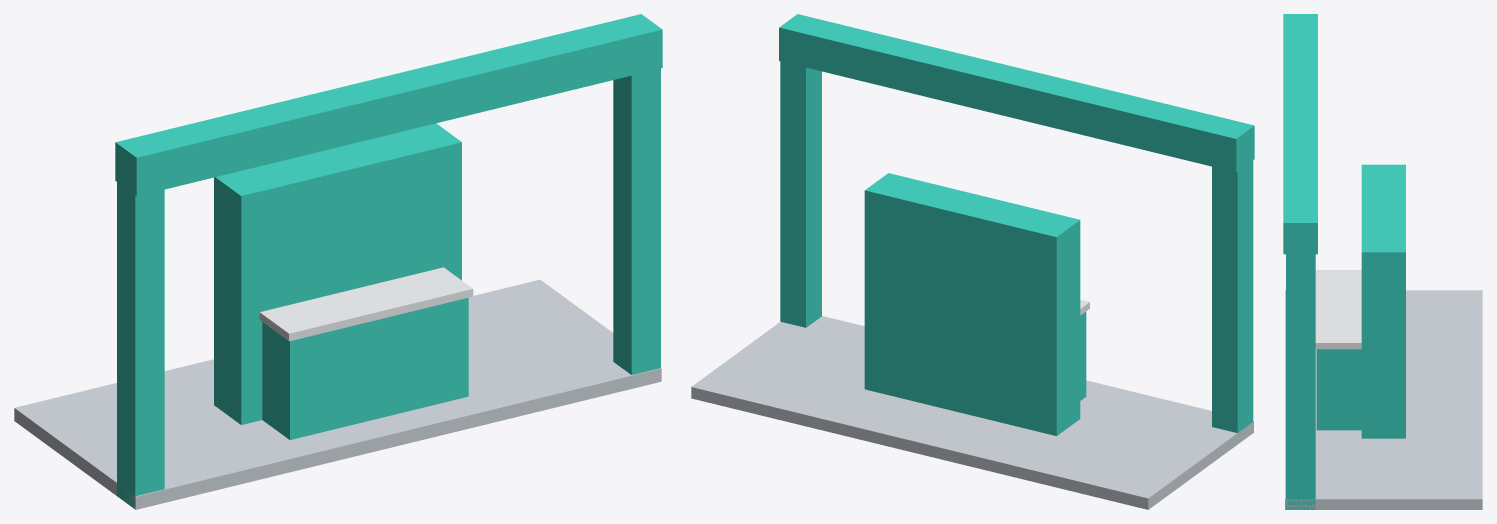
3 views of the same model, side by side, from view 1: azimuth 30°, elevation 25°; view 2: azimuth 150°, elevation 25°; view 3: azimuth 270°, elevation 25° (orthographic). The views are drawn at different scales.
Visible parts, largest first — view 1: Exhibition Booth Concept; view 2: Exhibition Booth Concept; view 3: Exhibition Booth Concept.
Part boxes in pixels (x1,y1,x2,y2): Exhibition Booth Concept: (14,14,662,509); Exhibition Booth Concept: (691,14,1254,509); Exhibition Booth Concept: (1283,14,1482,509).
Bounding box in the file's own units: 5 × 3.2 × 2.01.
